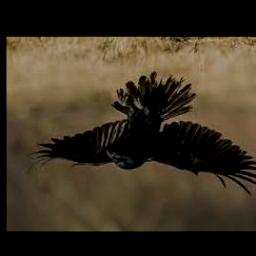Crow: (25, 73, 256, 197)
